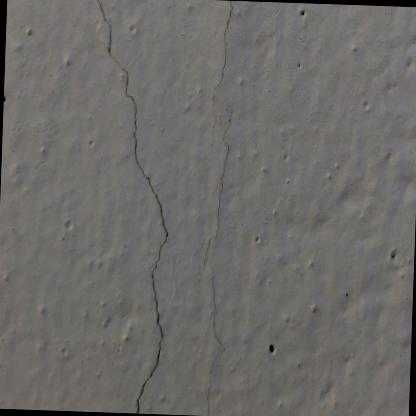crack: (96, 0, 169, 410), (202, 111, 232, 268), (209, 1, 233, 117), (211, 271, 225, 349), (205, 351, 219, 416)
